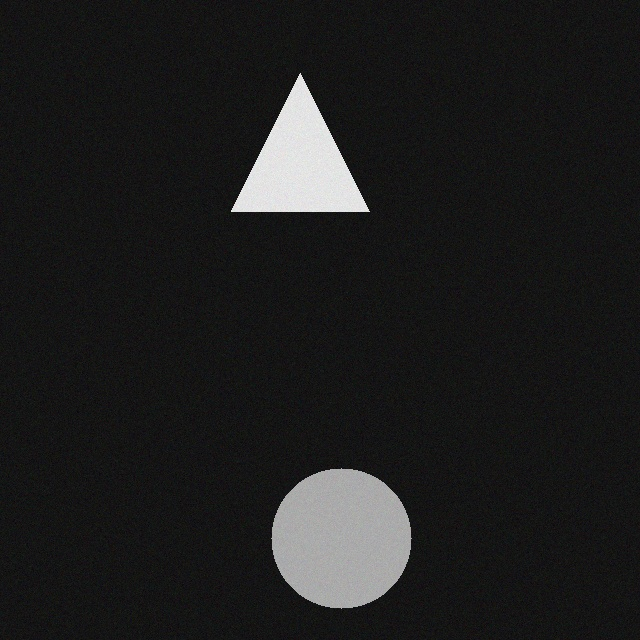circle: (267, 466, 407, 606)
triangle: (227, 71, 365, 209)
